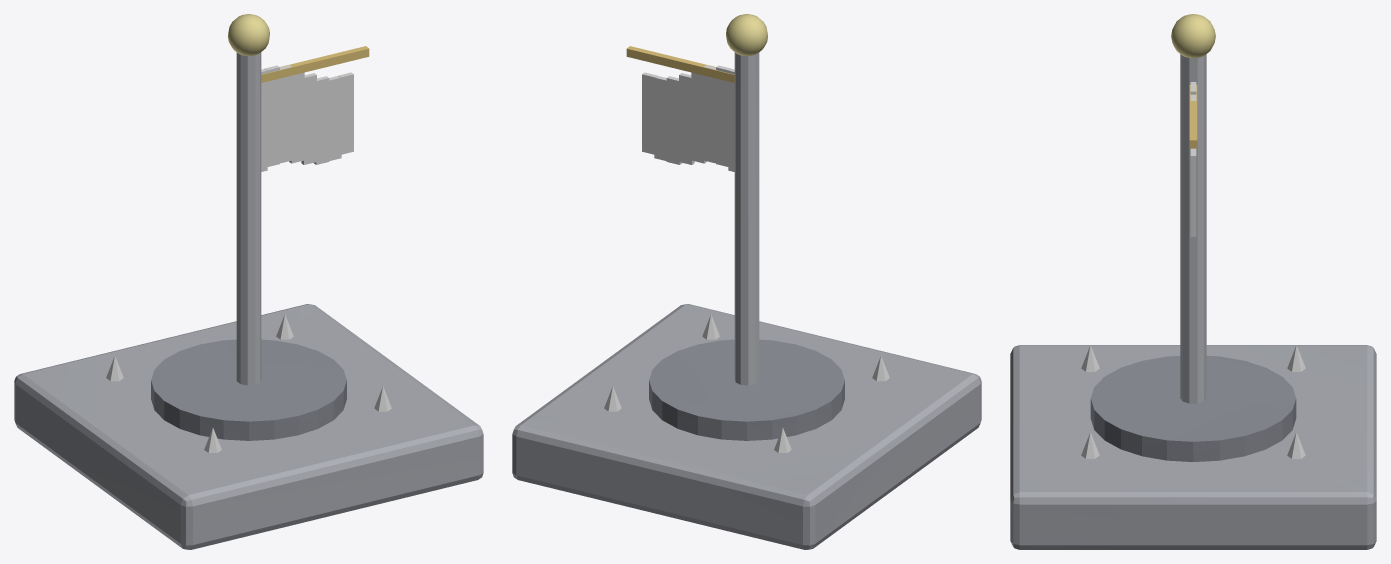
Rendered from gym_checkpoint_lite.glb.
The picture shows the model from 3 angles, left to right: view 1: azimuth 30°, elevation 25°; view 2: azimuth 150°, elevation 25°; view 3: azimuth 270°, elevation 25°; orthographic projection. The views are drawn at different scales.
Parts seen in each view (by area): view 1: Cube; view 2: Cube; view 3: Cube.
Part boxes in pixels (bbox=[...]): Cube: bbox=[14, 14, 483, 549]; Cube: bbox=[512, 14, 981, 549]; Cube: bbox=[1010, 14, 1376, 549].
Bounding box in the file's own units: 1.96 × 2.72 × 1.96.
